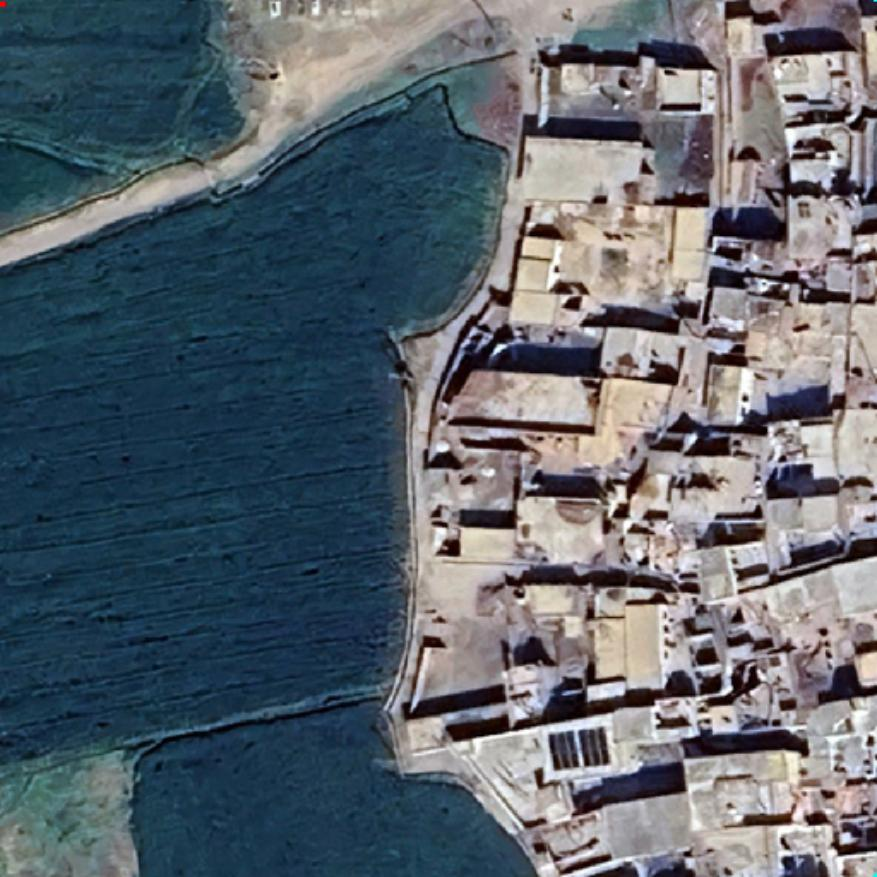Solarpanel: (543, 722, 615, 776)
